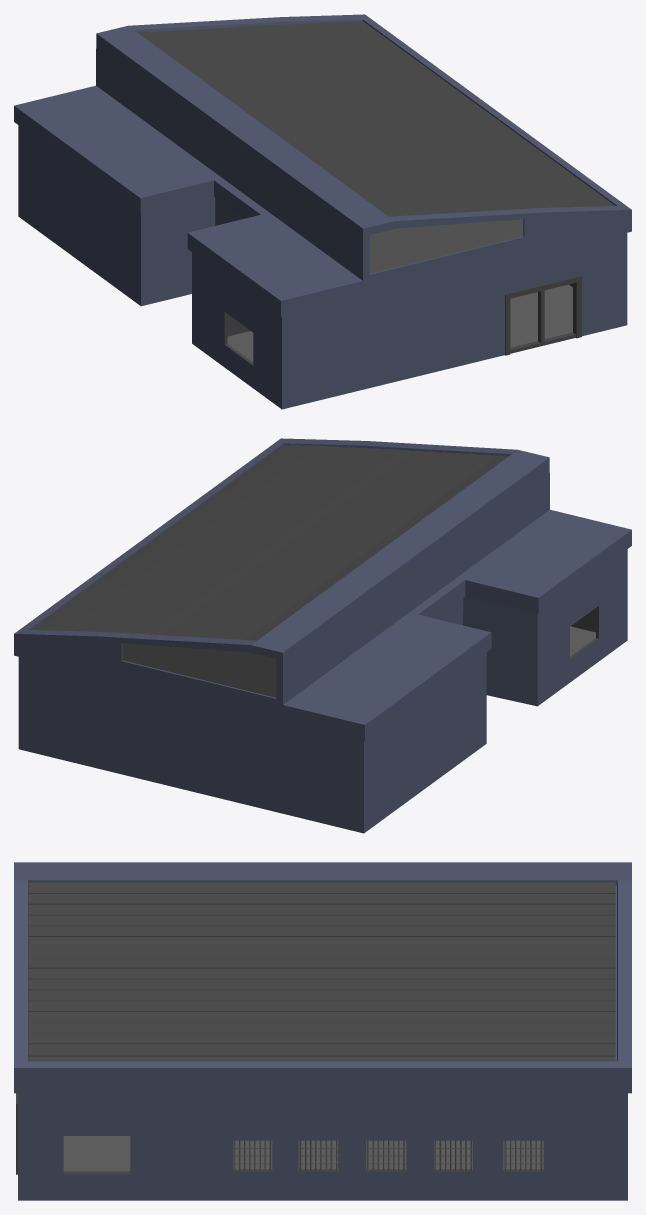
Rendered from PoliceStation.fbx.
3 renders of one model, top to bottom at view 1: azimuth 30°, elevation 25°; view 2: azimuth 150°, elevation 25°; view 3: azimuth 270°, elevation 25°, orthographic. The views are drawn at different scales.
Parts seen in each view (by area): view 1: PoliceStation_LOD0; view 2: PoliceStation_LOD0; view 3: PoliceStation_LOD0.
Part boxes in pixels (left/top/right/bottom): PoliceStation_LOD0: left=14, top=14, right=631, bottom=409; PoliceStation_LOD0: left=14, top=438, right=631, bottom=833; PoliceStation_LOD0: left=14, top=862, right=631, bottom=1200.
Size of what is drawn, in the model's own units: 3044 by 1347 by 4008.
1 material, 1 textured.
